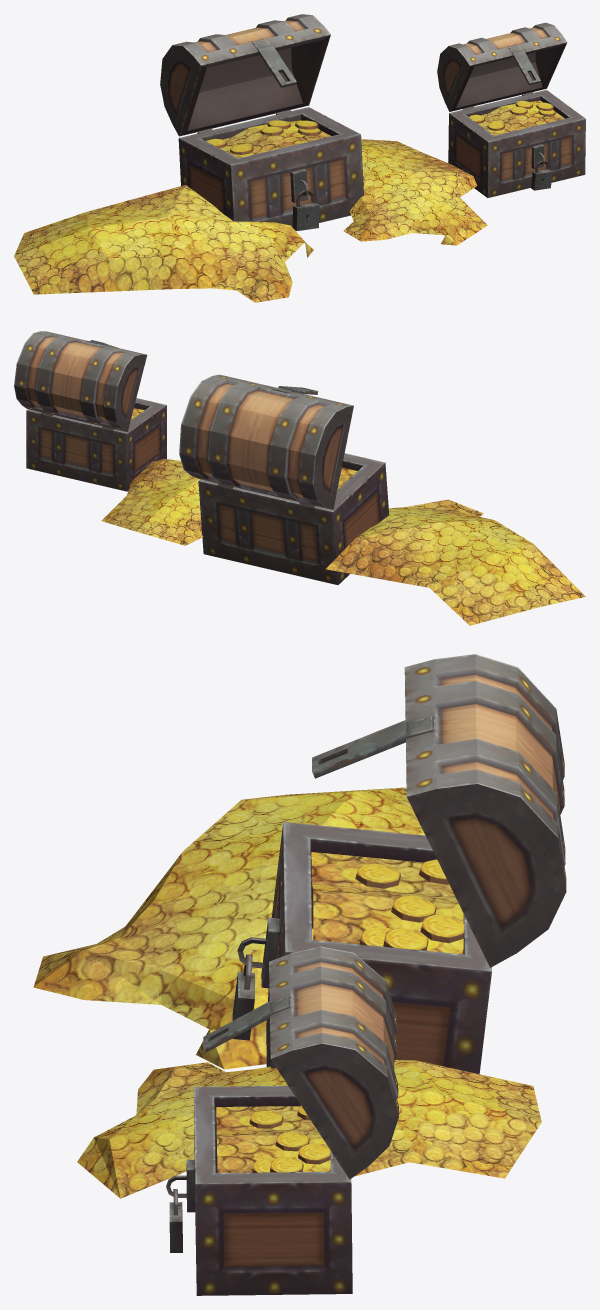
The model's file is Area_12_16.fbx.
The picture shows the model from 3 angles, top to bottom: view 1: azimuth 30°, elevation 25°; view 2: azimuth 150°, elevation 25°; view 3: azimuth 270°, elevation 25°; orthographic projection. The views are drawn at different scales.
Parts seen in each view (by area): view 1: Area_12_16; view 2: Area_12_16; view 3: Area_12_16.
Boxes of the visible parts, left/top/right/bottom form: Area_12_16: left=14, top=14, right=585, bottom=302; Area_12_16: left=14, top=331, right=585, bottom=625; Area_12_16: left=33, top=654, right=566, bottom=1295.
Size of the model in its own units: 822 by 259 by 358.
